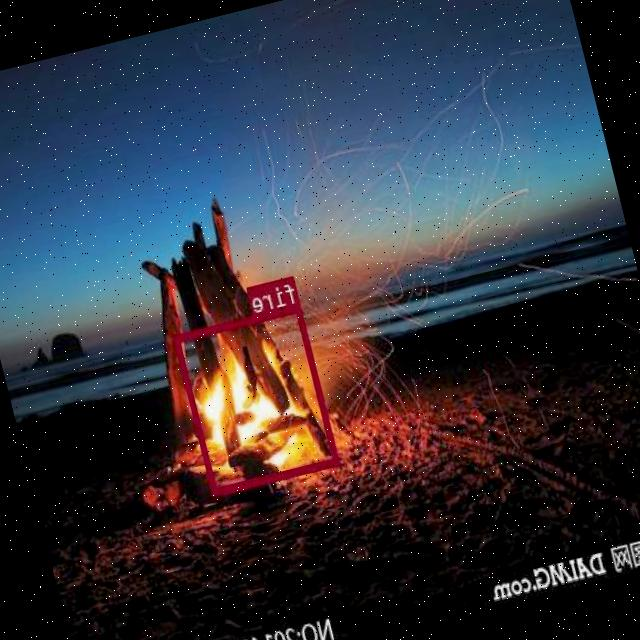fire: (174, 301, 340, 494)
